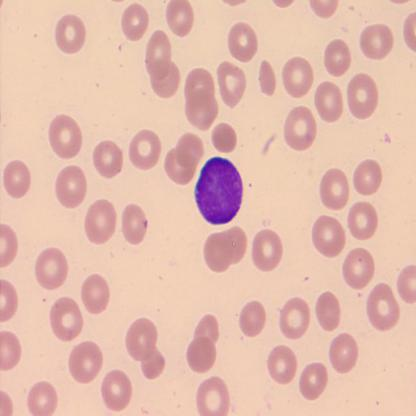Blast: (192, 153, 246, 227)
